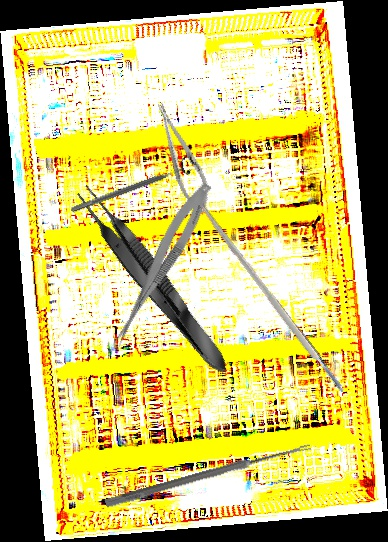Fixation Ring: (67, 156, 193, 219)
Micro Scissor: (106, 177, 217, 355)
Needle Holder: (147, 97, 218, 218)
Scalpel Handle: (195, 200, 347, 396)
Surgical Spoon: (104, 440, 312, 510)
Tissue Forceps: (68, 179, 237, 382)
